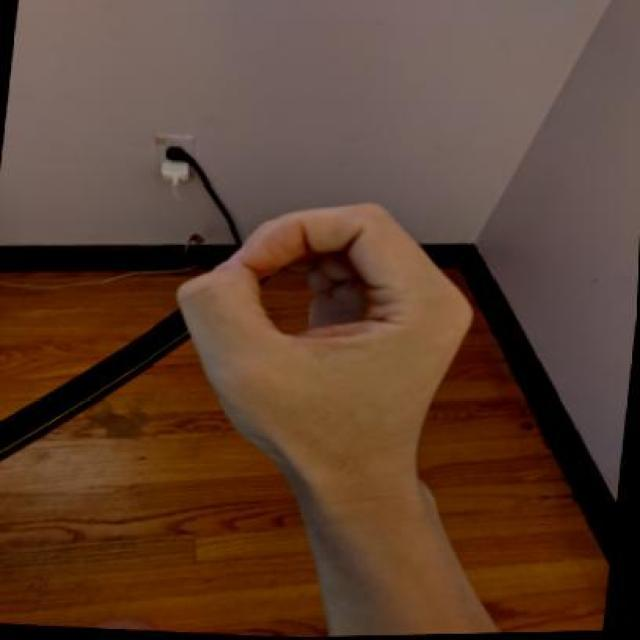O: (154, 185, 496, 497)
